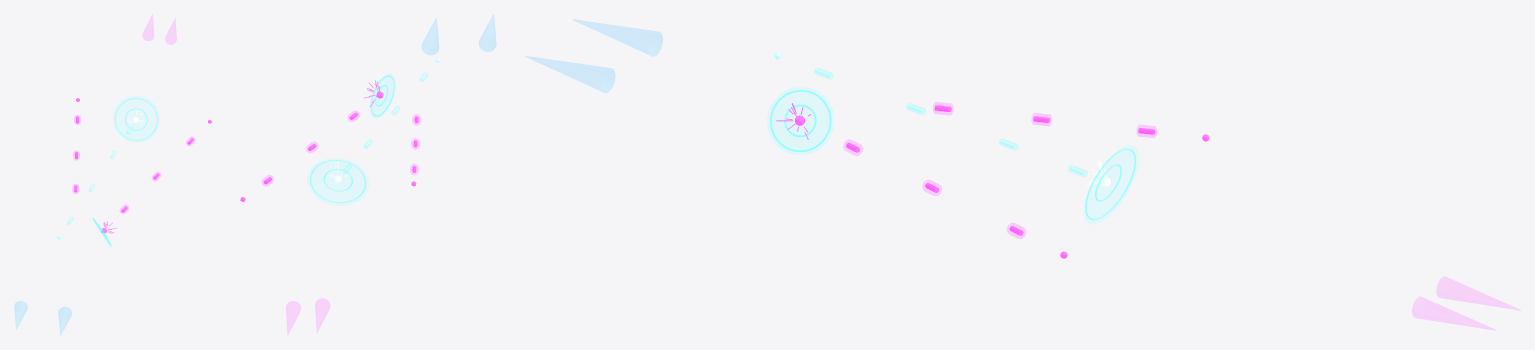
Rendered from battle_effects.glb.
3 renders of one model, left to right at view 1: azimuth 30°, elevation 25°; view 2: azimuth 210°, elevation 25°; view 3: azimuth 270°, elevation 25°, orthographic. The views are drawn at different scales.
Visible parts, largest first — view 1: Frigate_ROOT | drive plume, Frigate_ROOT | drive plume.001, Veyr shield impact | shield ripple.001, VeyrFrigate_ROOT | drive plume.001, VeyrFrigate_ROOT | drive plume; view 2: Frigate_ROOT | drive plume.001, Frigate_ROOT | drive plume, VeyrFrigate_ROOT | drive plume, VeyrFrigate_ROOT | drive plume.001, Veyr shield impact | shield ripple.001; view 3: Frigate_ROOT | drive plume, Frigate_ROOT | drive plume.001, VeyrFrigate_ROOT | drive plume, VeyrFrigate_ROOT | drive plume.001.
Boxes of the visible parts, bbox=[...] form: Frigate_ROOT | drive plume: bbox=[14, 301, 27, 329]; Frigate_ROOT | drive plume.001: bbox=[59, 307, 71, 334]; Veyr shield impact | shield ripple.001: bbox=[114, 98, 157, 140]; VeyrFrigate_ROOT | drive plume.001: bbox=[143, 15, 153, 40]; VeyrFrigate_ROOT | drive plume: bbox=[165, 20, 176, 43]; Frigate_ROOT | drive plume.001: bbox=[422, 18, 438, 54]; Frigate_ROOT | drive plume: bbox=[479, 15, 495, 51]; VeyrFrigate_ROOT | drive plume: bbox=[286, 301, 300, 333]; VeyrFrigate_ROOT | drive plume.001: bbox=[315, 299, 329, 331]; Veyr shield impact | shield ripple.001: bbox=[310, 160, 365, 203]; Frigate_ROOT | drive plume: bbox=[574, 20, 662, 55]; Frigate_ROOT | drive plume.001: bbox=[525, 56, 614, 92]; VeyrFrigate_ROOT | drive plume: bbox=[1412, 297, 1494, 329]; VeyrFrigate_ROOT | drive plume.001: bbox=[1437, 277, 1518, 309].
Size of the model in its own units: 7.37 by 1.25 by 8.37.
